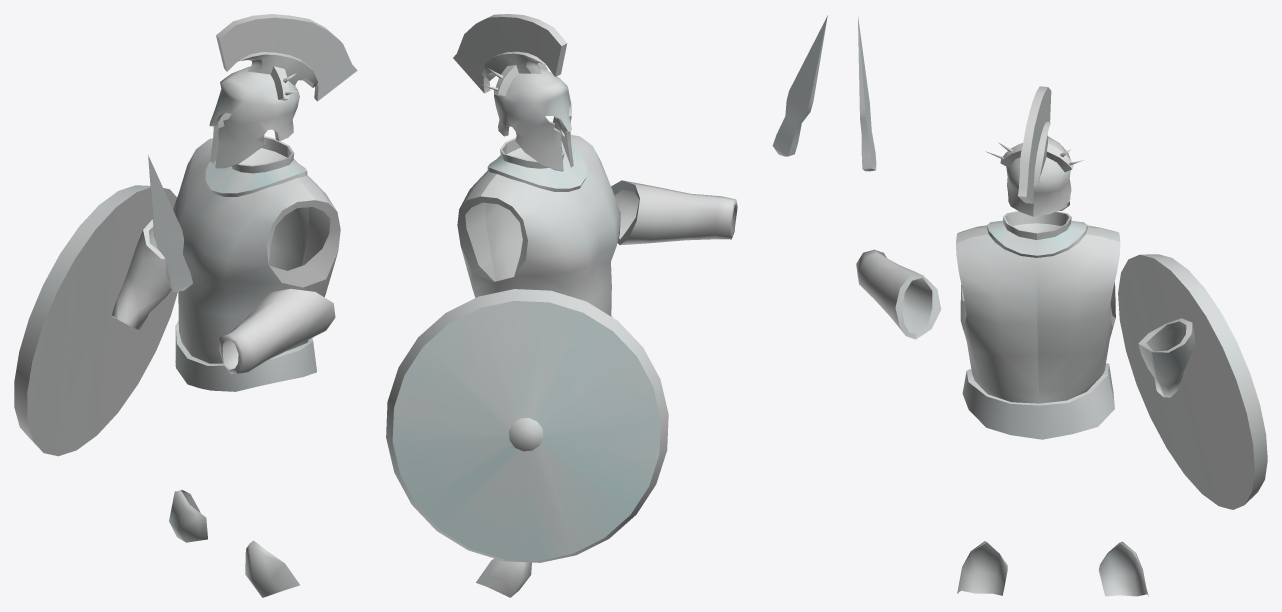
The model's file is tower_top_3_uv.fbx.
3 renders of one model, left to right at view 1: azimuth 30°, elevation 25°; view 2: azimuth 150°, elevation 25°; view 3: azimuth 270°, elevation 25°, orthographic. The views are drawn at different scales.
Visible parts, largest first — view 1: tower_top_3; view 2: tower_top_3; view 3: tower_top_3.
Part boxes in pixels (x1=…): tower_top_3: x1=14, y1=14, x2=357, y2=597; tower_top_3: x1=386, y1=14, x2=827, y2=597; tower_top_3: x1=856, y1=14, x2=1267, y2=596.
Size of the model in its own units: 1.03 by 1.82 by 1.32.
